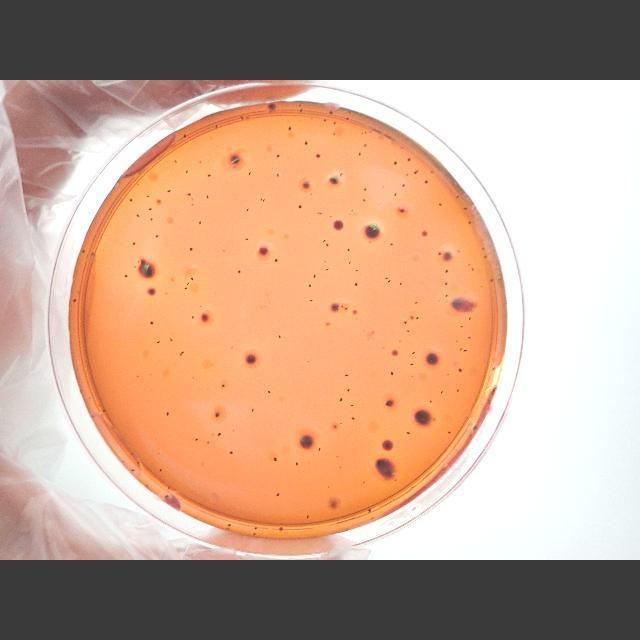colony: (450, 293, 474, 315), (375, 456, 397, 478), (412, 408, 432, 428), (362, 222, 383, 240), (138, 261, 156, 279), (298, 432, 316, 450), (425, 352, 441, 366), (326, 496, 340, 512), (228, 154, 242, 166), (258, 244, 270, 258), (245, 353, 258, 365), (381, 439, 394, 451), (332, 220, 344, 232), (442, 250, 454, 262), (328, 174, 339, 186), (200, 312, 210, 322), (330, 302, 340, 312), (302, 180, 312, 190), (420, 229, 430, 239), (266, 102, 278, 110), (146, 288, 156, 296), (384, 398, 392, 408), (398, 208, 406, 214), (392, 349, 398, 357), (352, 308, 358, 316), (325, 319, 331, 326), (156, 199, 162, 205), (140, 258, 146, 264), (214, 412, 220, 418), (278, 526, 284, 532), (227, 522, 233, 528), (273, 258, 279, 264), (315, 153, 321, 159), (362, 142, 368, 148), (444, 268, 450, 274), (164, 494, 170, 500), (72, 298, 78, 304), (408, 314, 414, 320), (332, 424, 338, 430), (424, 178, 428, 186), (402, 182, 406, 190), (240, 115, 244, 122), (165, 189, 172, 193), (186, 192, 192, 196), (148, 207, 154, 211), (150, 320, 154, 326), (191, 314, 195, 320), (229, 450, 233, 456), (317, 446, 321, 452), (339, 397, 343, 403), (390, 370, 394, 376), (406, 430, 410, 436), (362, 478, 366, 484), (306, 514, 310, 520), (276, 491, 280, 497), (308, 299, 314, 303), (313, 273, 317, 279), (348, 260, 352, 266), (298, 204, 302, 210), (245, 207, 249, 213), (198, 220, 202, 226), (188, 248, 194, 252), (299, 108, 303, 114), (304, 140, 308, 146), (394, 160, 398, 166), (407, 157, 411, 163), (394, 192, 398, 198), (468, 220, 472, 226), (411, 350, 415, 356), (158, 468, 164, 472), (137, 460, 141, 466), (90, 252, 96, 256), (82, 248, 86, 254), (207, 194, 210, 200), (456, 388, 459, 394), (346, 116, 349, 122), (183, 134, 187, 138), (207, 174, 211, 178), (248, 172, 252, 176), (198, 160, 202, 164), (129, 198, 133, 202), (136, 214, 140, 218), (132, 242, 136, 246), (124, 274, 128, 278), (186, 282, 190, 286), (184, 286, 188, 290), (156, 340, 160, 344), (251, 408, 255, 412), (221, 384, 225, 388), (166, 412, 170, 416), (217, 432, 221, 436), (351, 416, 355, 420), (350, 403, 354, 407), (447, 430, 451, 434), (367, 508, 371, 512), (254, 526, 258, 530), (253, 532, 257, 536), (308, 284, 312, 288), (354, 282, 358, 286), (347, 248, 351, 252), (344, 307, 348, 311), (390, 242, 394, 246), (325, 243, 329, 247), (322, 239, 326, 243), (362, 198, 366, 202), (340, 172, 344, 176), (276, 173, 280, 177), (262, 198, 266, 202), (260, 198, 264, 202), (237, 270, 241, 274), (288, 127, 292, 131), (329, 111, 333, 115), (333, 121, 337, 125), (332, 132, 336, 136), (348, 110, 352, 114), (298, 103, 302, 107), (358, 152, 362, 156), (364, 131, 368, 135), (438, 202, 442, 206), (463, 206, 467, 210), (438, 252, 442, 256), (444, 282, 448, 286), (444, 294, 448, 298), (468, 316, 472, 320), (464, 348, 468, 352), (458, 368, 462, 372), (398, 339, 402, 343), (338, 465, 342, 469), (168, 484, 170, 492), (131, 468, 135, 472), (121, 460, 125, 464), (102, 409, 106, 413), (276, 154, 280, 158), (136, 375, 140, 379), (278, 335, 282, 339), (403, 320, 407, 324), (414, 300, 418, 304), (483, 255, 487, 259), (414, 170, 416, 177), (175, 160, 178, 164), (146, 195, 150, 198), (150, 216, 152, 222), (190, 277, 193, 281), (170, 336, 172, 342), (180, 352, 182, 358), (196, 436, 198, 442), (207, 440, 210, 444), (232, 428, 235, 432), (296, 461, 298, 467), (274, 456, 276, 462), (346, 388, 349, 392), (441, 390, 444, 394), (341, 304, 344, 308), (361, 132, 364, 136), (416, 168, 418, 174), (431, 170, 434, 174), (458, 248, 460, 254), (446, 372, 449, 376), (411, 362, 414, 366), (401, 146, 404, 150), (491, 278, 494, 282), (190, 202, 193, 205), (216, 124, 218, 128), (186, 170, 188, 174), (156, 234, 158, 238), (138, 260, 140, 264), (268, 390, 270, 394), (345, 374, 349, 376), (430, 400, 432, 404), (326, 268, 328, 272), (354, 270, 358, 272), (364, 187, 366, 191), (320, 211, 322, 215), (245, 238, 249, 240), (324, 118, 326, 122), (405, 174, 409, 176), (460, 326, 464, 328), (467, 336, 471, 338), (460, 347, 462, 351), (411, 374, 413, 378), (336, 454, 338, 458), (328, 485, 330, 489), (146, 484, 148, 488), (192, 376, 194, 380), (231, 345, 233, 349), (308, 359, 310, 363), (416, 316, 418, 320), (400, 282, 402, 286), (386, 276, 388, 280), (481, 248, 485, 250), (467, 264, 471, 266), (472, 268, 474, 272), (182, 351, 184, 354), (370, 240, 372, 243), (310, 192, 312, 195), (456, 196, 459, 198), (330, 215, 332, 218), (406, 330, 409, 332), (134, 266, 136, 268), (340, 422, 342, 424), (351, 210, 353, 212), (456, 340, 458, 342), (165, 292, 167, 294), (150, 374, 152, 376), (388, 280, 390, 282)
